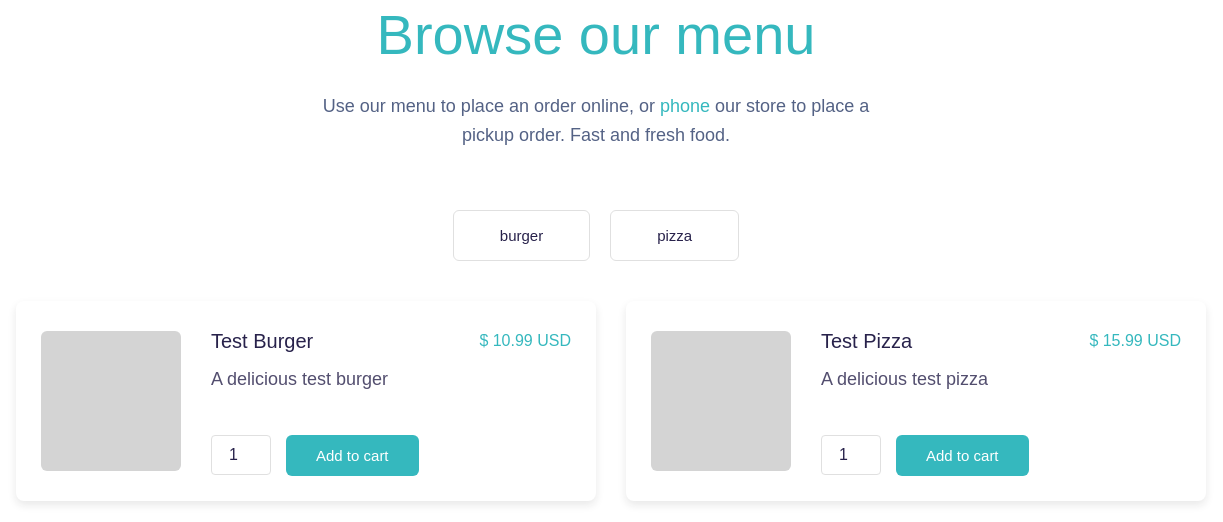
Test: MenuSection › filters products by category
Click the button "burger".
click(522, 235)  # box [453,210,590,261]
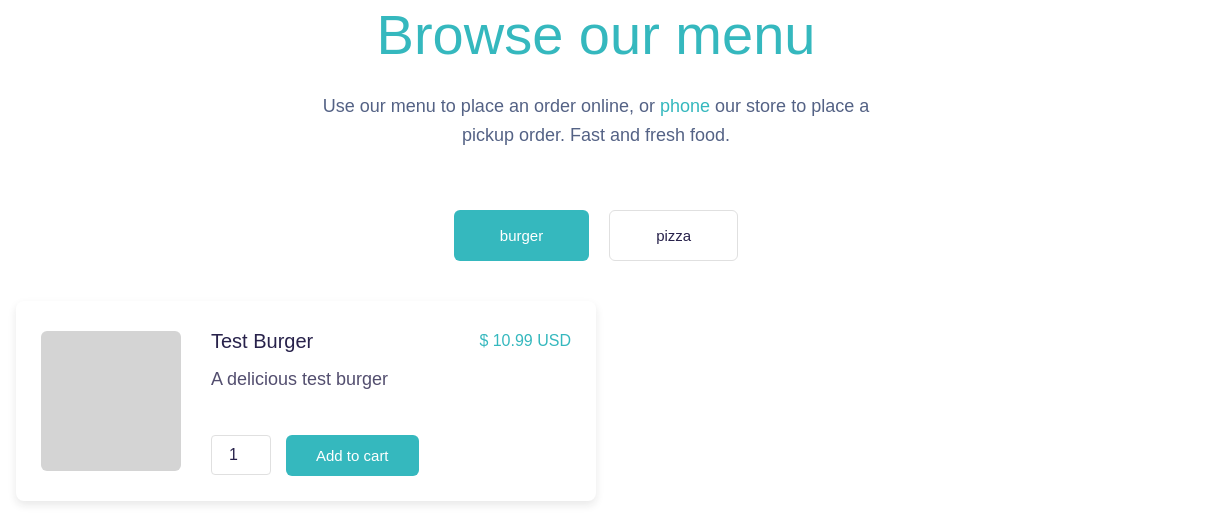
Expected: the heading "Test Burger" is shown, [211,326,313,356]
Expected: the heading "Test Pizza" is gone
Click the button "pizza".
click(674, 235)  # box [609,210,738,261]
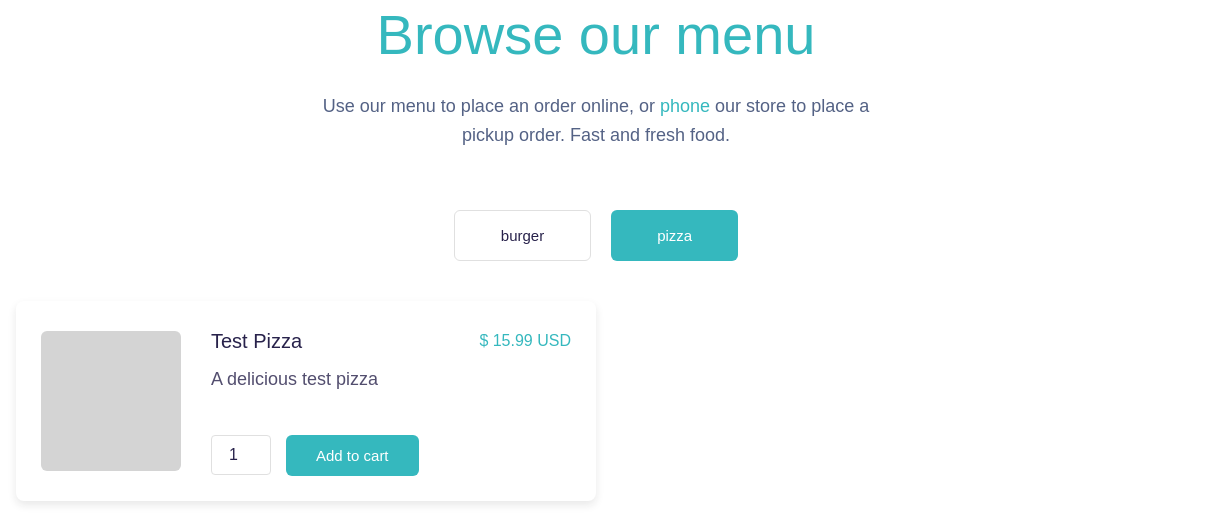
Expected: the heading "Test Burger" is gone
Expected: the heading "Test Pizza" is shown, [211,326,302,356]
Click the button "pizza".
click(675, 235)  # box [611,210,738,261]
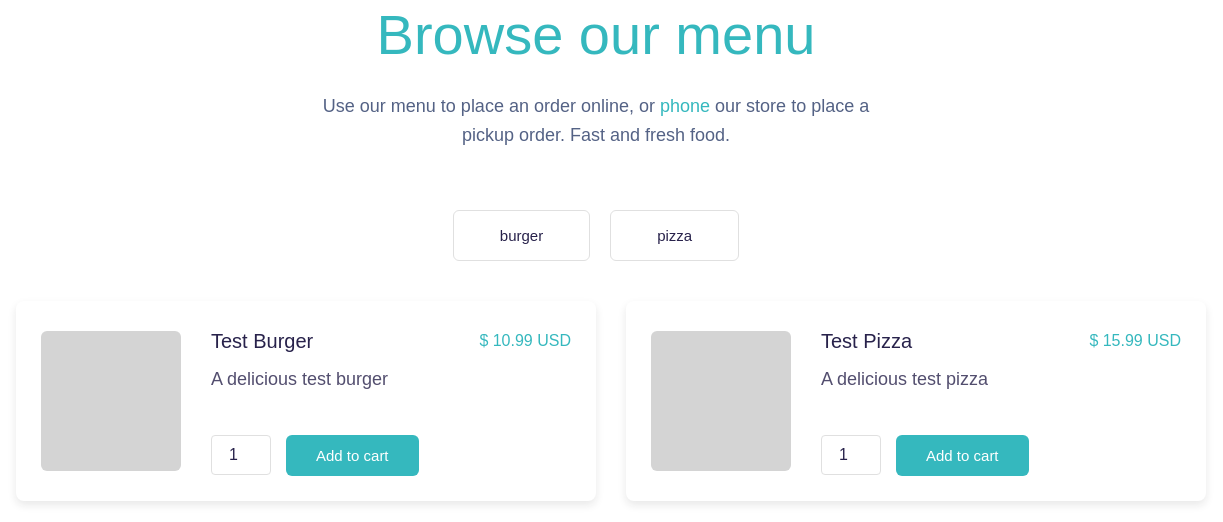
Expected: the heading "Test Pizza" is shown, [821,326,912,356]
Expected: the heading "Test Burger" is shown, [211,326,313,356]
